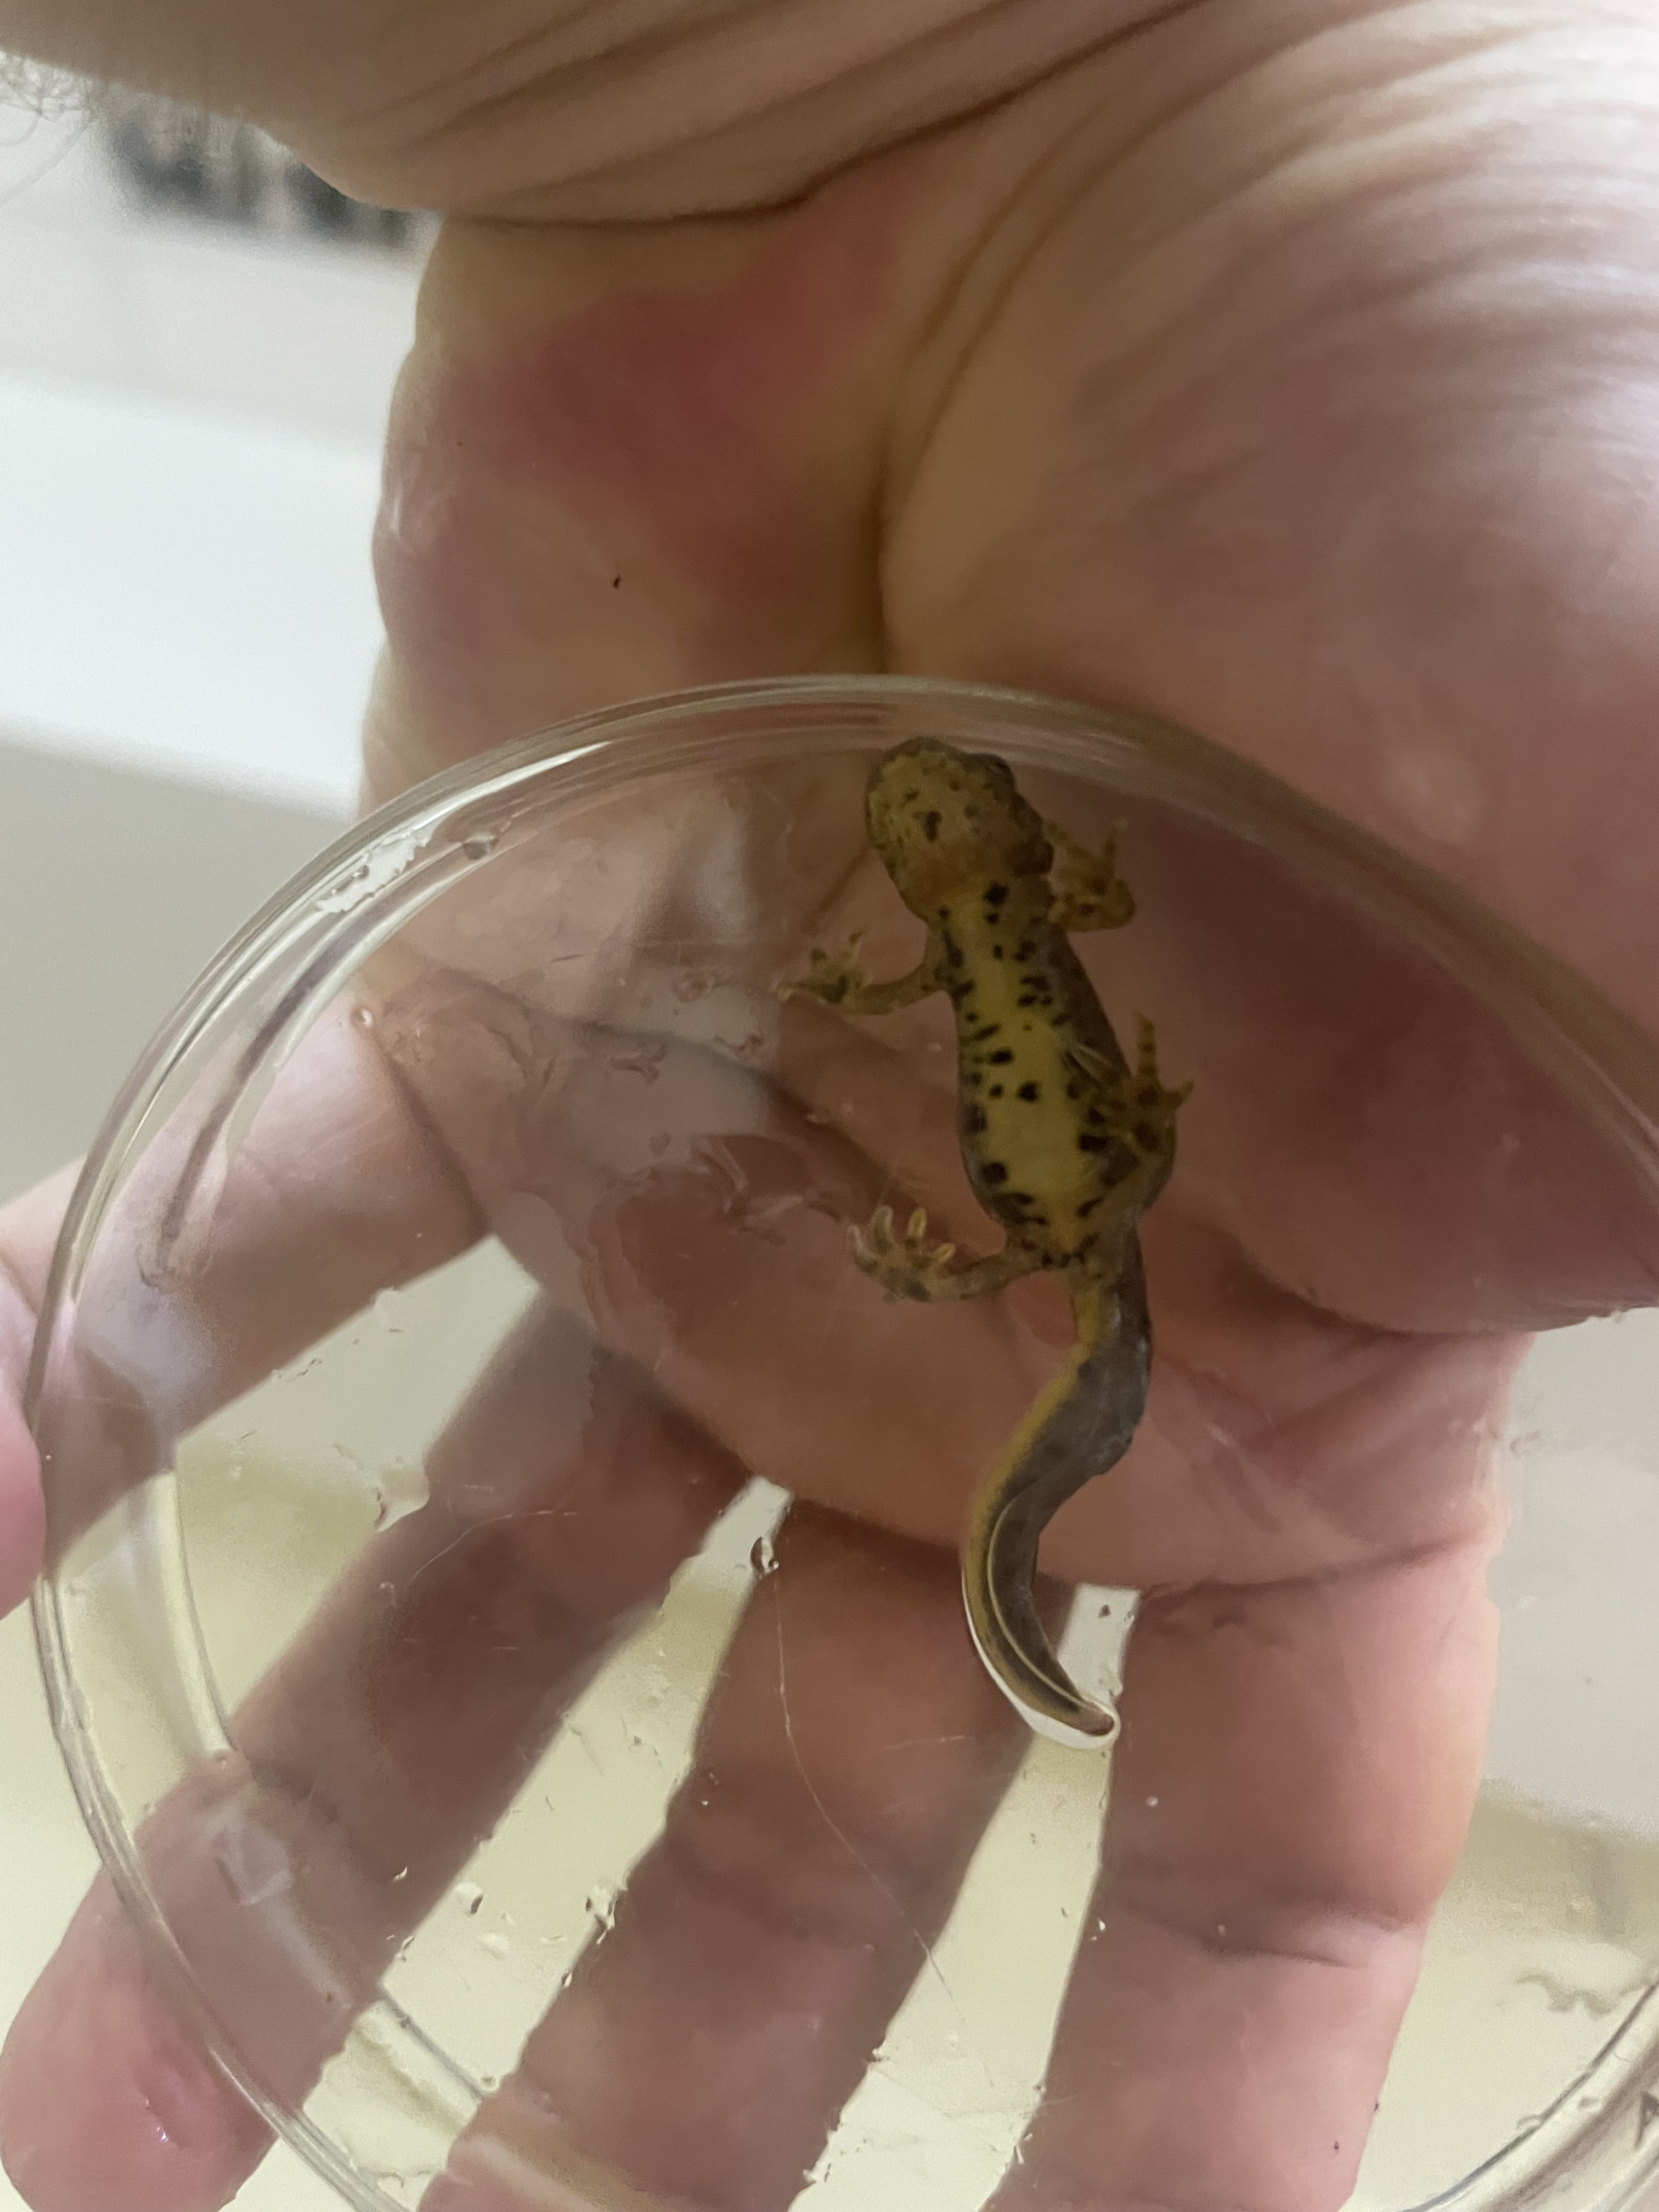Karelin_newt: (945, 932, 1136, 1231)
